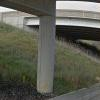Bridge: (13, 2, 95, 52)
